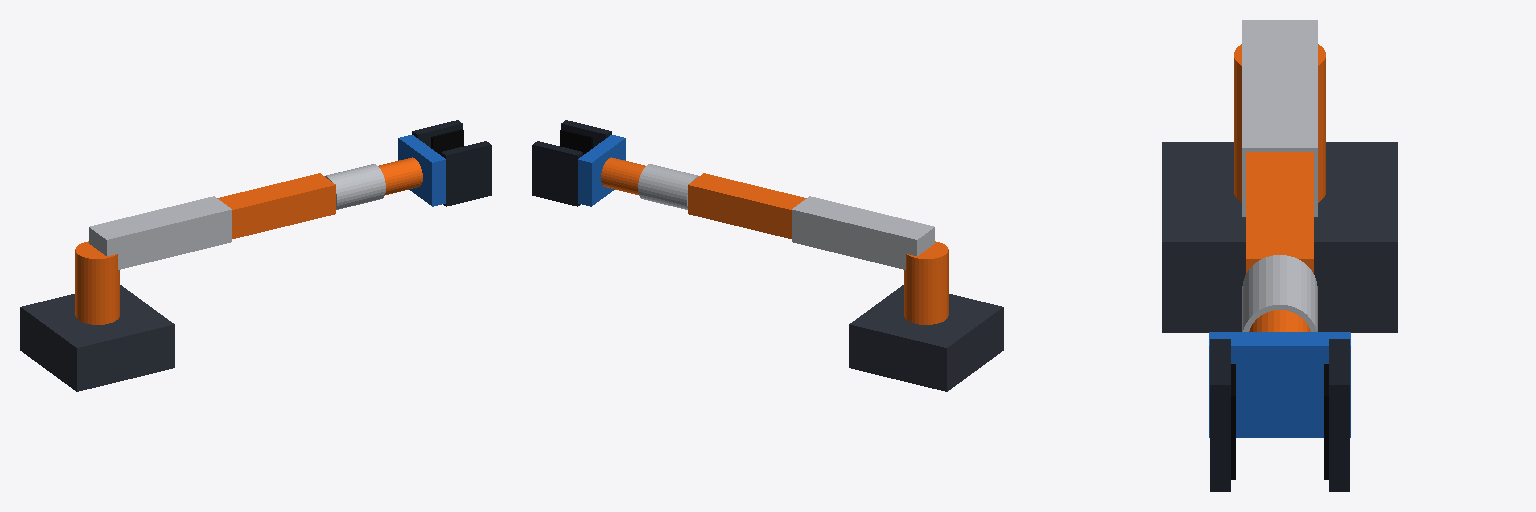
robot.urdf — simple_six_dof_arm:
<?xml version="1.0"?>
<robot name="simple_six_dof_arm">
  <material name="graphite">
    <color rgba="0.23 0.25 0.29 1.0"/>
  </material>
  <material name="silver">
    <color rgba="0.75 0.76 0.78 1.0"/>
  </material>
  <material name="signal_orange">
    <color rgba="0.95 0.45 0.12 1.0"/>
  </material>
  <material name="tool_blue">
    <color rgba="0.17 0.45 0.78 1.0"/>
  </material>
  <material name="gripper_metal">
    <color rgba="0.16 0.18 0.22 1.0"/>
  </material>
  <material name="gripper_pad">
    <color rgba="0.08 0.08 0.09 1.0"/>
  </material>

  <link name="base_link">
    <visual>
      <origin xyz="0 0 0.06" rpy="0 0 0"/>
      <geometry>
        <box size="0.28 0.28 0.12"/>
      </geometry>
      <material name="graphite"/>
    </visual>
    <collision>
      <origin xyz="0 0 0.06" rpy="0 0 0"/>
      <geometry>
        <box size="0.28 0.28 0.12"/>
      </geometry>
    </collision>
    <inertial>
      <origin xyz="0 0 0.06" rpy="0 0 0"/>
      <mass value="8.0"/>
      <inertia ixx="0.08" ixy="0.0" ixz="0.0" iyy="0.08" iyz="0.0" izz="0.08"/>
    </inertial>
  </link>

  <link name="link_1">
    <visual>
      <origin xyz="0 0 0.09" rpy="0 0 0"/>
      <geometry>
        <cylinder radius="0.055" length="0.18"/>
      </geometry>
      <material name="signal_orange"/>
    </visual>
    <collision>
      <origin xyz="0 0 0.09" rpy="0 0 0"/>
      <geometry>
        <cylinder radius="0.055" length="0.18"/>
      </geometry>
    </collision>
    <inertial>
      <origin xyz="0 0 0.09" rpy="0 0 0"/>
      <mass value="3.0"/>
      <inertia ixx="0.02" ixy="0.0" ixz="0.0" iyy="0.02" iyz="0.0" izz="0.01"/>
    </inertial>
  </link>

  <joint name="joint_1" type="revolute">
    <parent link="base_link"/>
    <child link="link_1"/>
    <origin xyz="0 0 0.12" rpy="0 0 0"/>
    <axis xyz="0 0 1"/>
    <limit lower="-3.1416" upper="3.1416" effort="80.0" velocity="1.5"/>
  </joint>

  <link name="link_2">
    <visual>
      <origin xyz="0.18 0 0" rpy="0 0 0"/>
      <geometry>
        <box size="0.36 0.09 0.09"/>
      </geometry>
      <material name="silver"/>
    </visual>
    <collision>
      <origin xyz="0.18 0 0" rpy="0 0 0"/>
      <geometry>
        <box size="0.36 0.09 0.09"/>
      </geometry>
    </collision>
    <inertial>
      <origin xyz="0.18 0 0" rpy="0 0 0"/>
      <mass value="4.0"/>
      <inertia ixx="0.02" ixy="0.0" ixz="0.0" iyy="0.12" iyz="0.0" izz="0.12"/>
    </inertial>
  </link>

  <joint name="joint_2" type="revolute">
    <parent link="link_1"/>
    <child link="link_2"/>
    <origin xyz="0 0 0.18" rpy="0 0 0"/>
    <axis xyz="0 1 0"/>
    <limit lower="-2.3562" upper="2.3562" effort="80.0" velocity="1.5"/>
  </joint>

  <link name="link_3">
    <visual>
      <origin xyz="0.15 0 0" rpy="0 0 0"/>
      <geometry>
        <box size="0.30 0.08 0.08"/>
      </geometry>
      <material name="signal_orange"/>
    </visual>
    <collision>
      <origin xyz="0.15 0 0" rpy="0 0 0"/>
      <geometry>
        <box size="0.30 0.08 0.08"/>
      </geometry>
    </collision>
    <inertial>
      <origin xyz="0.15 0 0" rpy="0 0 0"/>
      <mass value="3.0"/>
      <inertia ixx="0.015" ixy="0.0" ixz="0.0" iyy="0.08" iyz="0.0" izz="0.08"/>
    </inertial>
  </link>

  <joint name="joint_3" type="revolute">
    <parent link="link_2"/>
    <child link="link_3"/>
    <origin xyz="0.36 0 0" rpy="0 0 0"/>
    <axis xyz="0 1 0"/>
    <limit lower="-2.7925" upper="2.7925" effort="60.0" velocity="1.8"/>
  </joint>

  <link name="link_4">
    <visual>
      <origin xyz="0.07 0 0" rpy="0 1.5708 0"/>
      <geometry>
        <cylinder radius="0.045" length="0.14"/>
      </geometry>
      <material name="silver"/>
    </visual>
    <collision>
      <origin xyz="0.07 0 0" rpy="0 1.5708 0"/>
      <geometry>
        <cylinder radius="0.045" length="0.14"/>
      </geometry>
    </collision>
    <inertial>
      <origin xyz="0.07 0 0" rpy="0 1.5708 0"/>
      <mass value="1.5"/>
      <inertia ixx="0.003" ixy="0.0" ixz="0.0" iyy="0.01" iyz="0.0" izz="0.01"/>
    </inertial>
  </link>

  <joint name="joint_4" type="revolute">
    <parent link="link_3"/>
    <child link="link_4"/>
    <origin xyz="0.30 0 0" rpy="0 0 0"/>
    <axis xyz="1 0 0"/>
    <limit lower="-3.1416" upper="3.1416" effort="40.0" velocity="2.0"/>
  </joint>

  <link name="link_5">
    <visual>
      <origin xyz="0.06 0 0" rpy="0 1.5708 0"/>
      <geometry>
        <cylinder radius="0.038" length="0.12"/>
      </geometry>
      <material name="signal_orange"/>
    </visual>
    <collision>
      <origin xyz="0.06 0 0" rpy="0 1.5708 0"/>
      <geometry>
        <cylinder radius="0.038" length="0.12"/>
      </geometry>
    </collision>
    <inertial>
      <origin xyz="0.06 0 0" rpy="0 1.5708 0"/>
      <mass value="1.0"/>
      <inertia ixx="0.002" ixy="0.0" ixz="0.0" iyy="0.006" iyz="0.0" izz="0.006"/>
    </inertial>
  </link>

  <joint name="joint_5" type="revolute">
    <parent link="link_4"/>
    <child link="link_5"/>
    <origin xyz="0.14 0 0" rpy="0 0 0"/>
    <axis xyz="0 1 0"/>
    <limit lower="-2.3562" upper="2.3562" effort="30.0" velocity="2.0"/>
  </joint>

  <link name="link_6">
    <!-- Stop the mounting flange inside the palm, before the grasp volume. -->
    <visual>
      <origin xyz="0.0125 0 0" rpy="0 1.5708 0"/>
      <geometry>
        <cylinder radius="0.032" length="0.025"/>
      </geometry>
      <material name="silver"/>
    </visual>
    <collision>
      <origin xyz="0.0125 0 0" rpy="0 1.5708 0"/>
      <geometry>
        <cylinder radius="0.032" length="0.025"/>
      </geometry>
    </collision>
    <inertial>
      <origin xyz="0.05 0 0" rpy="0 1.5708 0"/>
      <mass value="0.8"/>
      <inertia ixx="0.0015" ixy="0.0" ixz="0.0" iyy="0.004" iyz="0.0" izz="0.004"/>
    </inertial>
  </link>

  <joint name="joint_6" type="revolute">
    <parent link="link_5"/>
    <child link="link_6"/>
    <origin xyz="0.12 0 0" rpy="0 0 0"/>
    <axis xyz="1 0 0"/>
    <limit lower="-3.1416" upper="3.1416" effort="20.0" velocity="2.5"/>
  </joint>

  <link name="tool0">
    <!-- The tool0 origin is the grasp center used by the IK solver. -->
    <visual name="gripper_palm">
      <origin xyz="-0.09 0 0" rpy="0 0 0"/>
      <geometry>
        <box size="0.04 0.17 0.12"/>
      </geometry>
      <material name="tool_blue"/>
    </visual>
    <visual name="gripper_left_finger">
      <origin xyz="-0.005 0.071 0" rpy="0 0 0"/>
      <geometry>
        <box size="0.13 0.025 0.14"/>
      </geometry>
      <material name="gripper_metal"/>
    </visual>
    <visual name="gripper_right_finger">
      <origin xyz="-0.005 -0.071 0" rpy="0 0 0"/>
      <geometry>
        <box size="0.13 0.025 0.14"/>
      </geometry>
      <material name="gripper_metal"/>
    </visual>
    <visual name="gripper_left_pad">
      <origin xyz="0.015 0.0555 0" rpy="0 0 0"/>
      <geometry>
        <box size="0.09 0.006 0.11"/>
      </geometry>
      <material name="gripper_pad"/>
    </visual>
    <visual name="gripper_right_pad">
      <origin xyz="0.015 -0.0555 0" rpy="0 0 0"/>
      <geometry>
        <box size="0.09 0.006 0.11"/>
      </geometry>
      <material name="gripper_pad"/>
    </visual>
    <collision name="gripper_palm_collision">
      <origin xyz="-0.09 0 0" rpy="0 0 0"/>
      <geometry>
        <box size="0.04 0.17 0.12"/>
      </geometry>
    </collision>
    <collision name="gripper_left_finger_collision">
      <origin xyz="-0.005 0.071 0" rpy="0 0 0"/>
      <geometry>
        <box size="0.13 0.025 0.14"/>
      </geometry>
    </collision>
    <collision name="gripper_right_finger_collision">
      <origin xyz="-0.005 -0.071 0" rpy="0 0 0"/>
      <geometry>
        <box size="0.13 0.025 0.14"/>
      </geometry>
    </collision>
    <inertial>
      <origin xyz="-0.04 0 0" rpy="0 0 0"/>
      <mass value="0.7"/>
      <inertia ixx="0.0015" ixy="0.0" ixz="0.0" iyy="0.0020" iyz="0.0" izz="0.0020"/>
    </inertial>
  </link>

  <joint name="tool0_joint" type="fixed">
    <parent link="link_6"/>
    <child link="tool0"/>
    <origin xyz="0.10 0 0" rpy="0 0 0"/>
  </joint>
</robot>

--- What the picture shows (computed from the rendered views, not written in the file) ---
Views: 3 orthographic renders of the robot side by side, from view 1: azimuth 30°, elevation 25°; view 2: azimuth 150°, elevation 25°; view 3: azimuth 270°, elevation 25°.
Robot: simple_six_dof_arm — 8 links, 7 joints (6 revolute, 1 fixed); root link base_link; default pose: all joints at 0.
Visible links, largest first — view 1: base_link, link_2, tool0, link_3, link_1, link_4, link_5; view 2: base_link, link_2, tool0, link_3, link_1, link_4, link_5; view 3: base_link, tool0, link_2, link_3, link_4, link_1, link_5.
Boxes of the visible links, x1,y1,x2,y2 form: base_link: (20,285,174,391); link_2: (89,196,231,269); tool0: (398,120,491,206); link_3: (217,173,335,238); link_1: (75,241,119,324); link_4: (325,164,385,209); link_5: (378,157,422,194); base_link: (849,285,1003,391); link_2: (792,196,934,269); tool0: (532,120,625,206); link_3: (688,173,806,238); link_1: (904,241,948,324); link_4: (638,164,698,209); link_5: (601,157,645,194); base_link: (1162,142,1397,332); tool0: (1209,332,1350,491); link_2: (1242,20,1317,216); link_3: (1246,152,1313,273); link_4: (1242,255,1317,331); link_1: (1234,44,1325,202); link_5: (1249,310,1310,331).
Size in the robot's own frame: 1.22 by 0.28 by 0.37 metres.
Geometry: primitives only (box / cylinder / sphere), no mesh files.
